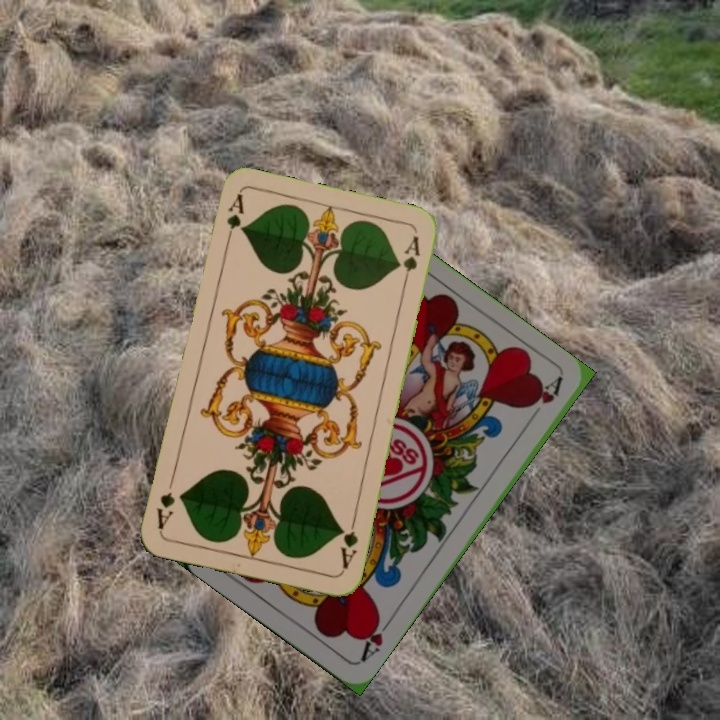GA: (221, 190, 246, 249), (336, 514, 361, 572)
HA: (356, 611, 396, 665)
